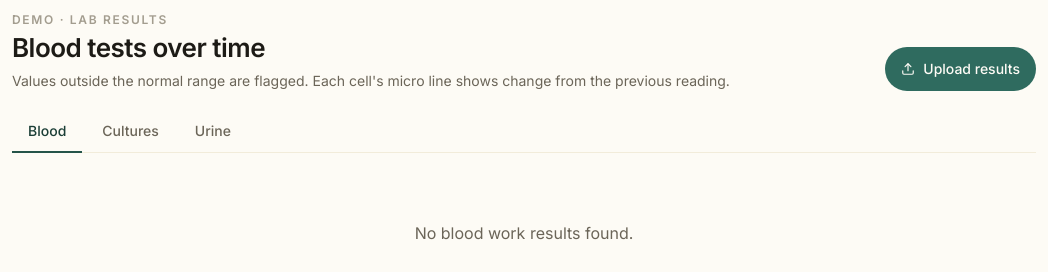
Test case: BloodWork page header › section title changes based on active tab
Expected: the heading "Blood tests over time" is shown, [12,32,265,63]
Switch to cultures tab
Click the tab "Cultures".
click(131, 132)  # box [86,110,175,152]
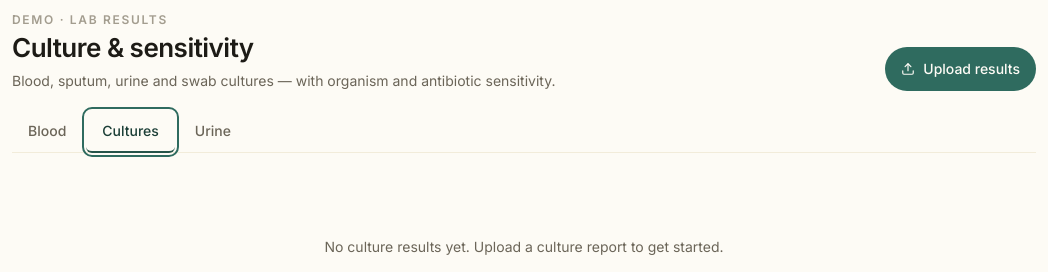
Result: the heading "Culture & sensitivity" is shown at [12,32,254,63]
